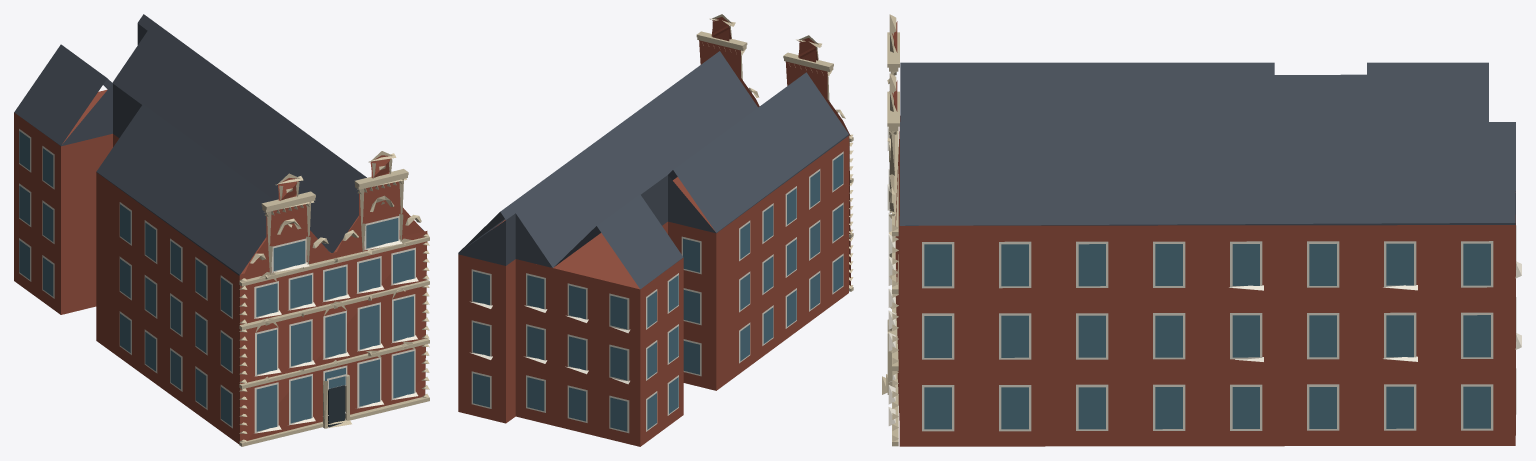
Rendered from de-dolphijn.lod1.glb.
3 views of the same model, side by side, from view 1: azimuth 30°, elevation 25°; view 2: azimuth 150°, elevation 25°; view 3: azimuth 270°, elevation 25° (orthographic). The views are drawn at different scales.
Visible parts, largest first — view 1: de-dolphijn; view 2: de-dolphijn; view 3: de-dolphijn.
Boxes of the visible parts, left/top/right/bottom form: de-dolphijn: left=14, top=14, right=429, bottom=446; de-dolphijn: left=458, top=14, right=853, bottom=446; de-dolphijn: left=882, top=14, right=1521, bottom=446.
Bounding box in the file's own units: 14.58 × 19.24 × 32.43.
